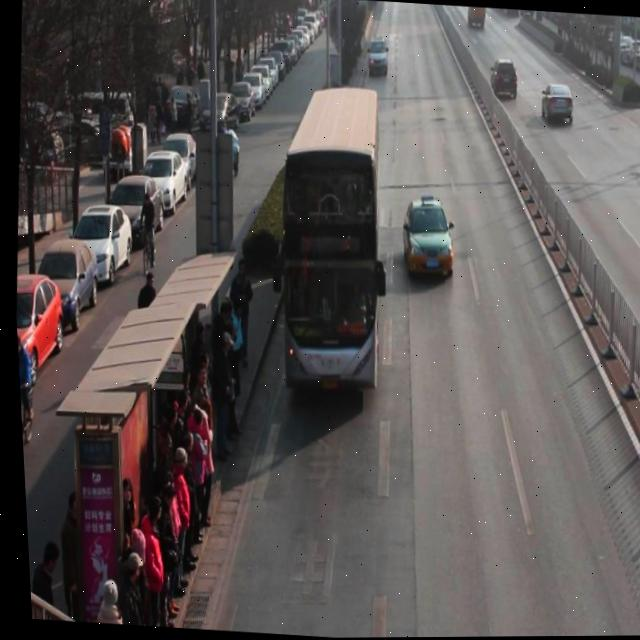car: (397, 197, 455, 281), (539, 83, 575, 126), (487, 57, 519, 101)
truck: (365, 33, 389, 77)
van: (259, 77, 390, 387)
